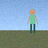person: (27, 9, 38, 33)
